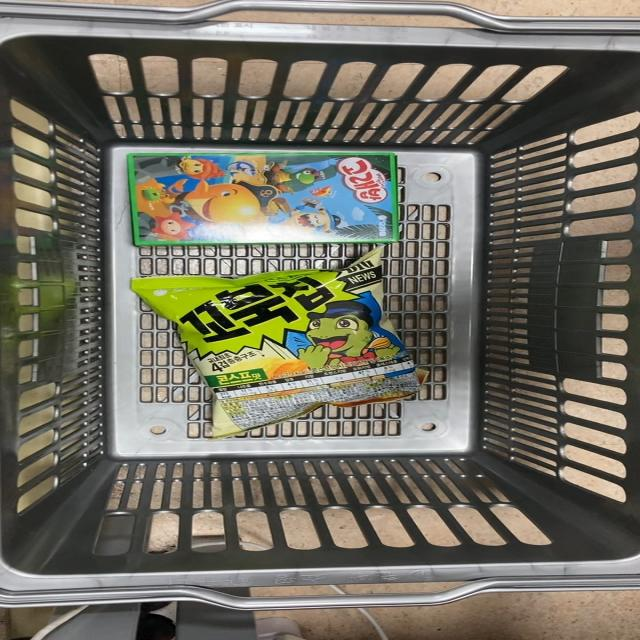ggobukchip: (129, 258, 433, 438)
goraebob: (125, 145, 406, 246)
